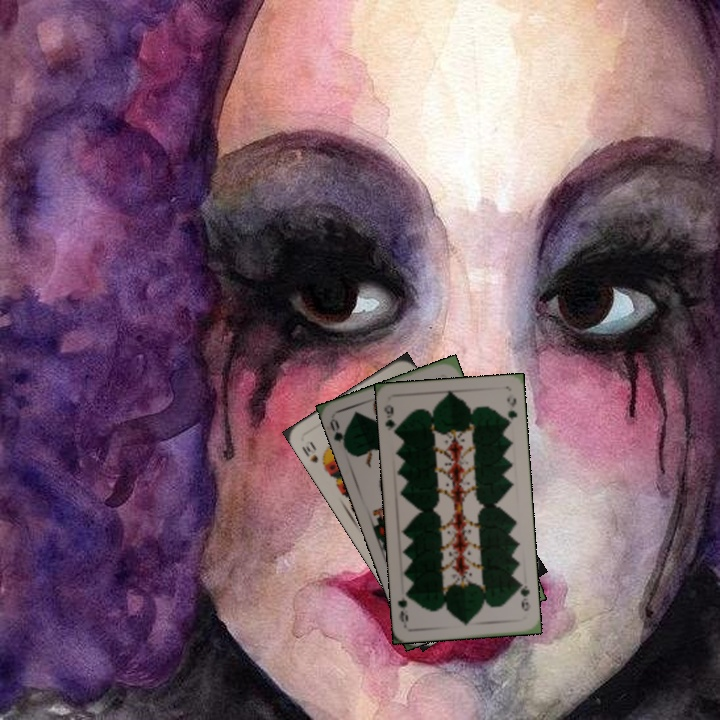G9: (380, 400, 401, 438), (514, 578, 533, 613)
GO: (326, 415, 351, 454)
S10: (298, 437, 330, 471)
